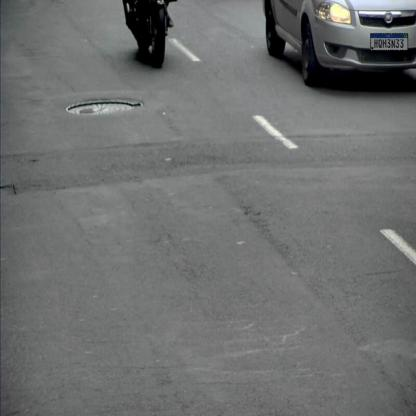PlacaM: (370, 33, 408, 51)
